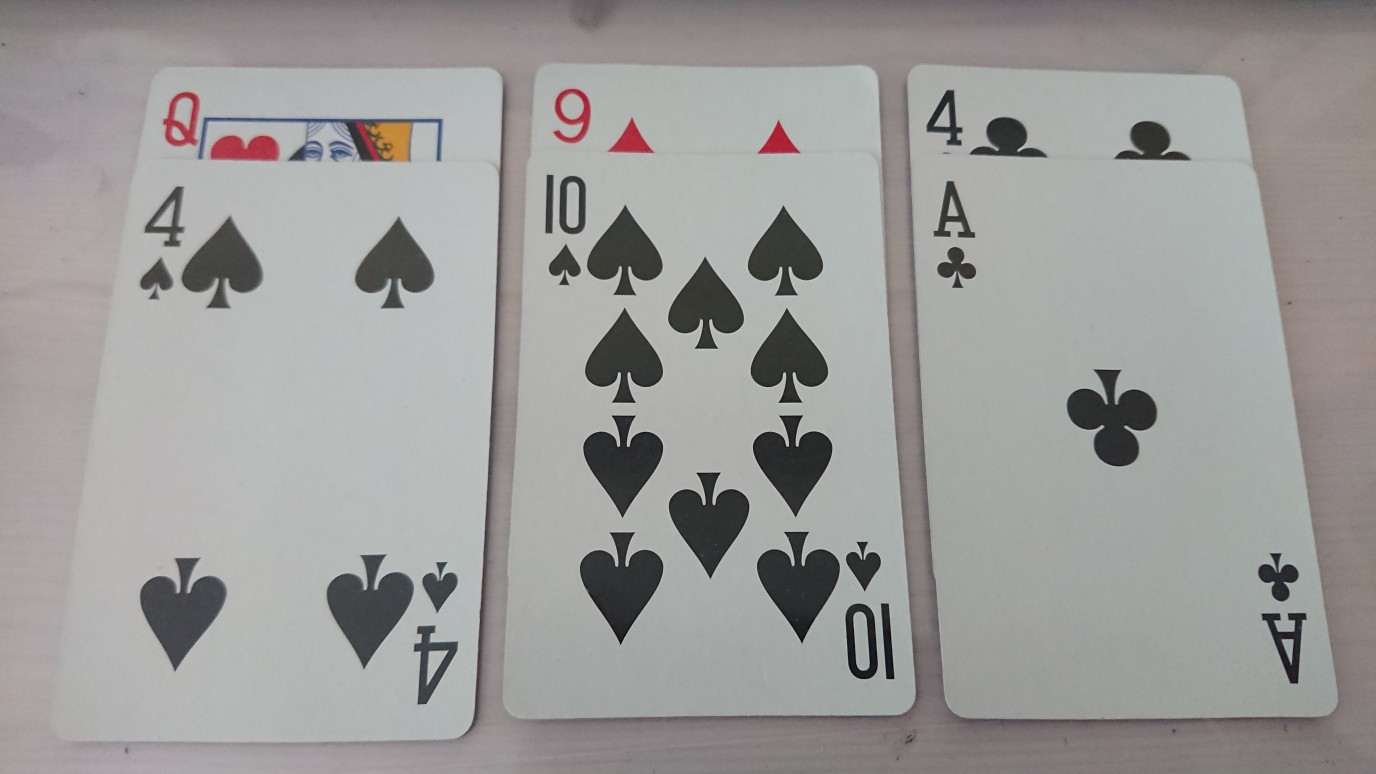10S: (538, 170, 592, 288)
4S: (134, 181, 189, 305)
AC: (925, 178, 985, 293)
